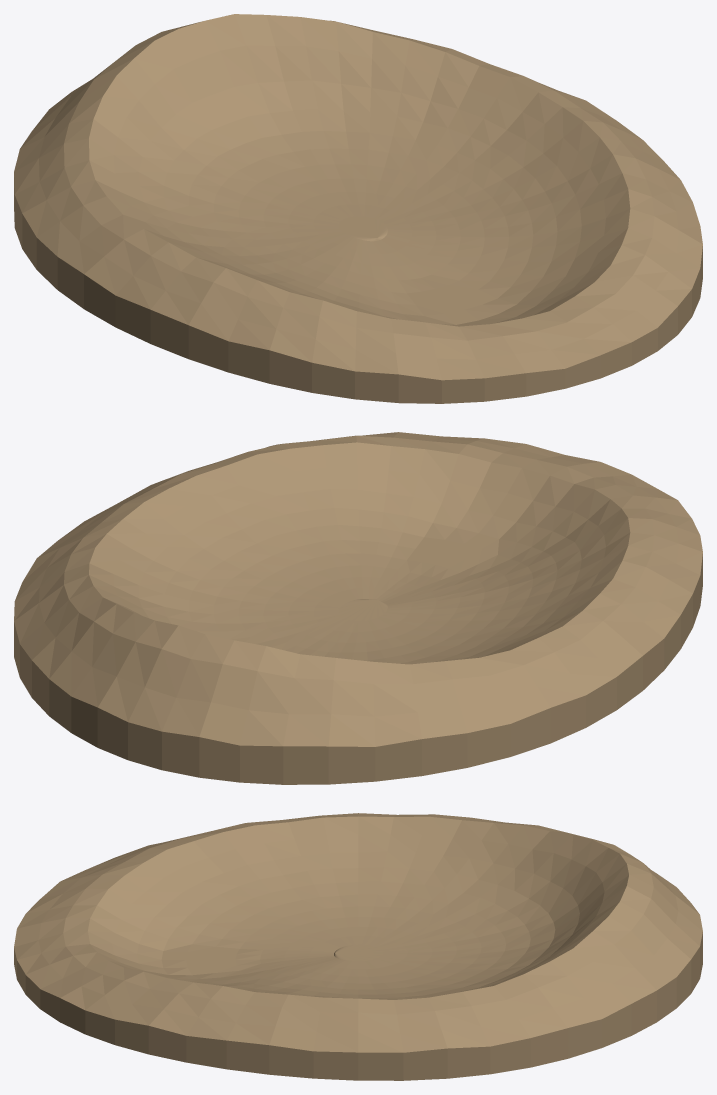
3 renders of one model, top to bottom at view 1: azimuth 30°, elevation 25°; view 2: azimuth 150°, elevation 25°; view 3: azimuth 270°, elevation 25°, orthographic. The views are drawn at different scales.
Visible parts, largest first — view 1: continuous_scooped_wind_basin; view 2: continuous_scooped_wind_basin; view 3: continuous_scooped_wind_basin.
Part boxes in pixels (left/top/right/bottom): continuous_scooped_wind_basin: left=14, top=14, right=702, bottom=403; continuous_scooped_wind_basin: left=14, top=432, right=702, bottom=784; continuous_scooped_wind_basin: left=14, top=813, right=702, bottom=1080.
Bounding box in the file's own units: 4 × 0.7203 × 5.
